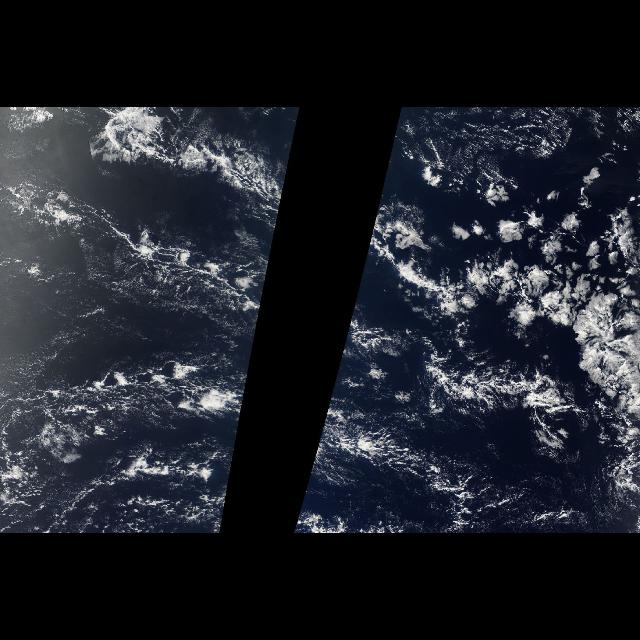Fish: (3, 113, 299, 499), (302, 157, 390, 498)
Flower: (401, 162, 634, 440)
